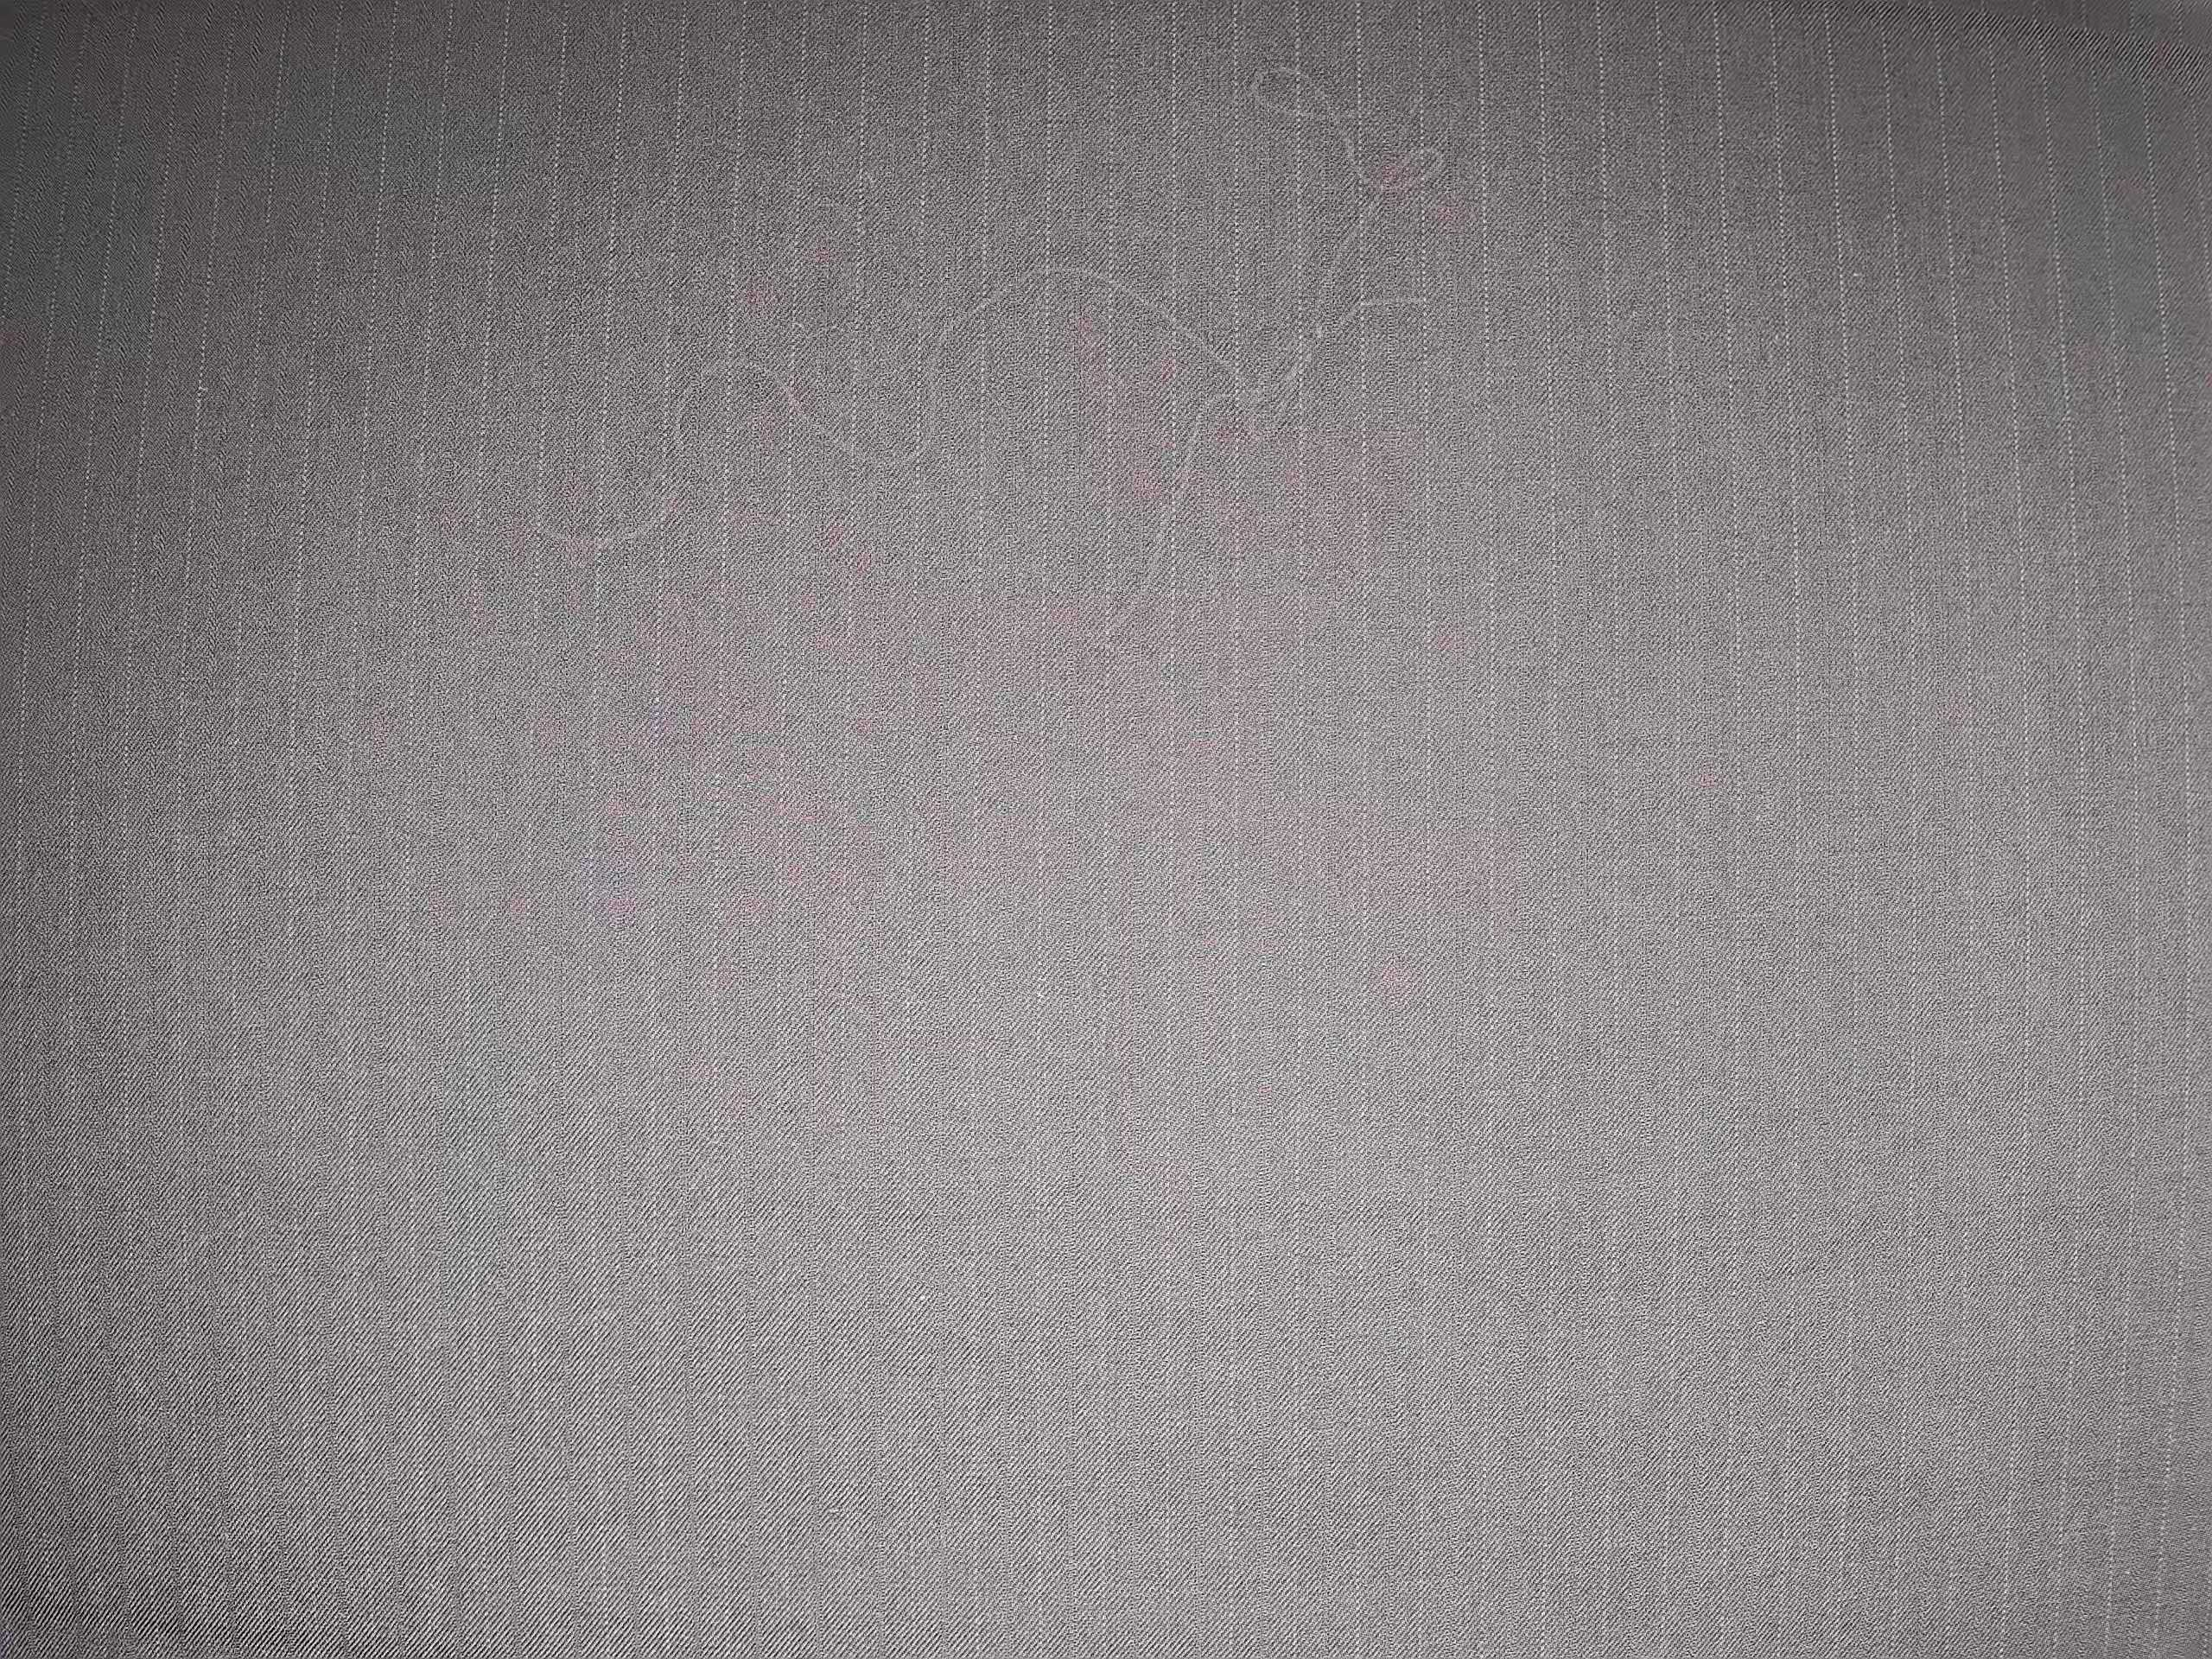others: (519, 52, 1451, 645)
